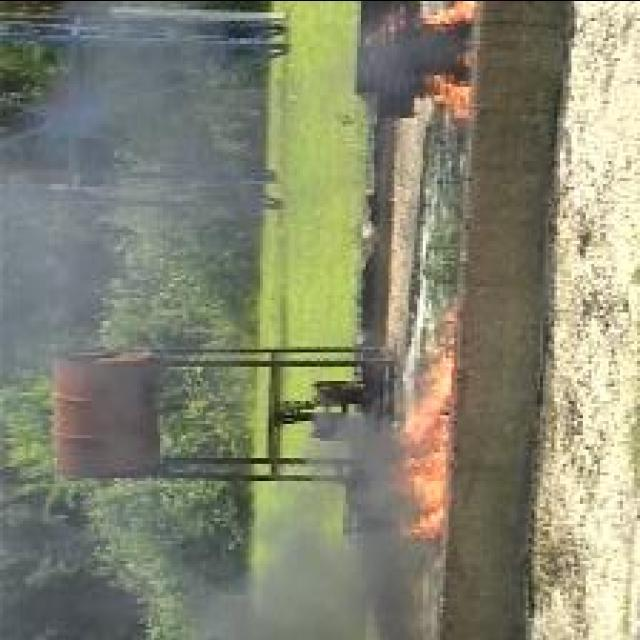Fire: (396, 298, 456, 532), (428, 74, 472, 117), (428, 0, 481, 26)
